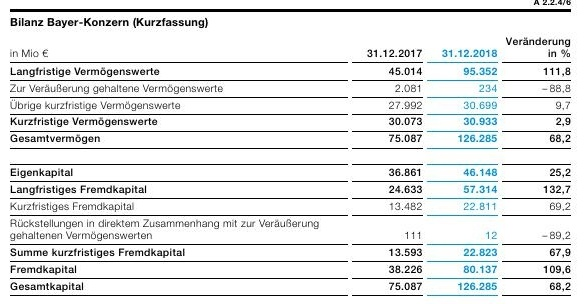table: (0, 0, 584, 304)
